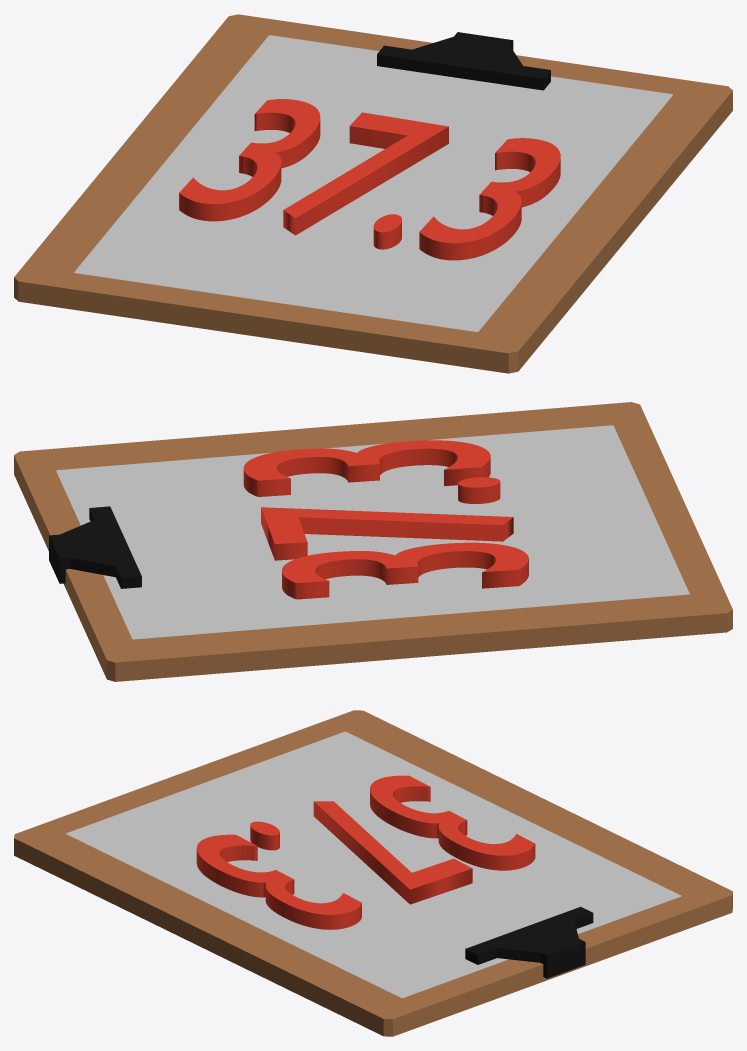
The model's file is PaperBoardFBX.fbx.
3 renders of one model, top to bottom at view 1: azimuth 30°, elevation 25°; view 2: azimuth 150°, elevation 25°; view 3: azimuth 270°, elevation 25°, orthographic. The views are drawn at different scales.
Parts seen in each view (by area): view 1: Paper board, Text; view 2: Paper board, Text; view 3: Paper board, Text.
Boxes of the visible parts, <box> form: Paper board: <box>14,14,732,373</box>; Text: <box>179,99,560,260</box>; Paper board: <box>14,402,732,681</box>; Text: <box>243,440,528,599</box>; Paper board: <box>14,710,732,1036</box>; Text: <box>196,775,535,929</box>.
Bounding box in the file's own units: 89.1 × 4.48 × 87.64.
